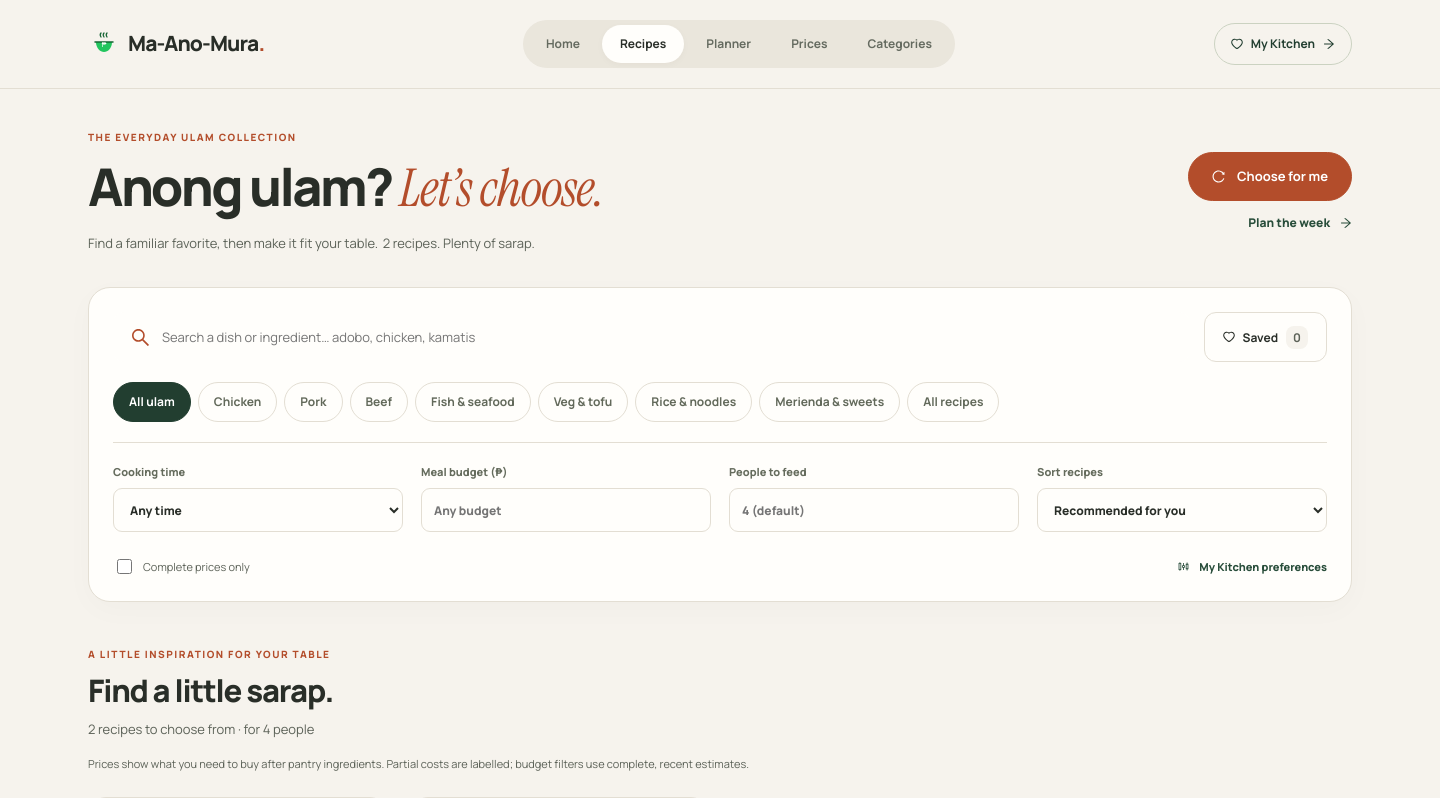
Scenario: invalid recipe discovery amounts show an error and cannot produce a budget match
Step 1. Type "2.5" into the number field named "Recipe servings" → (874, 510), box [729,488,1019,532]
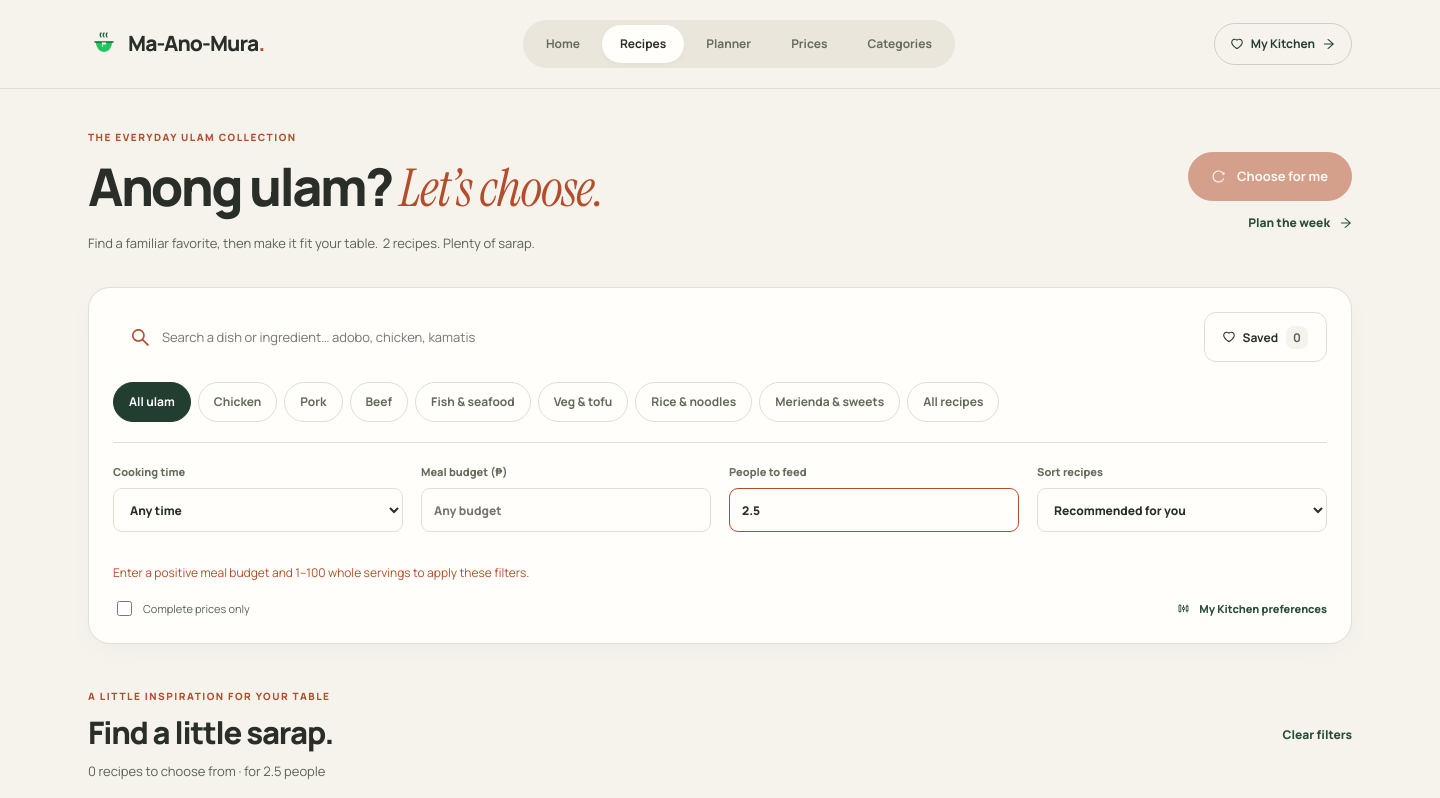
expect the message "Enter a positive meal budget and 1–100 whole servings to apply these filters." is shown: met, box [113,564,529,581]
expect the button "Choose for me" is disabled: met, box [1188,152,1352,201]
